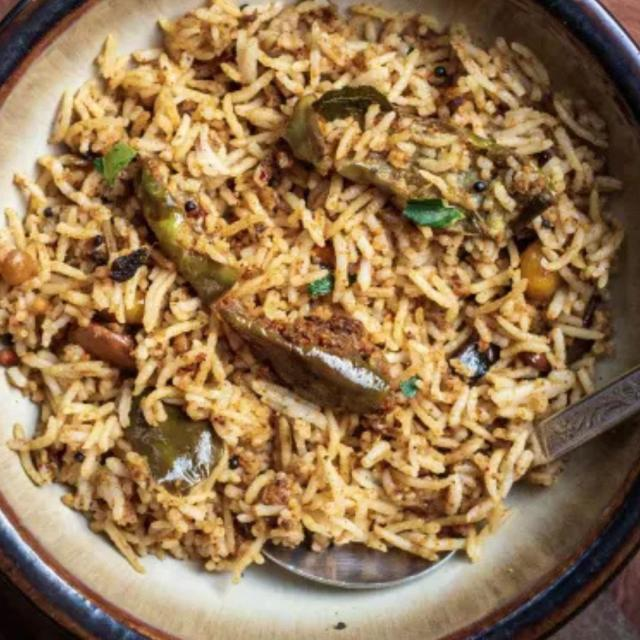vangi bath: (0, 0, 631, 595)
